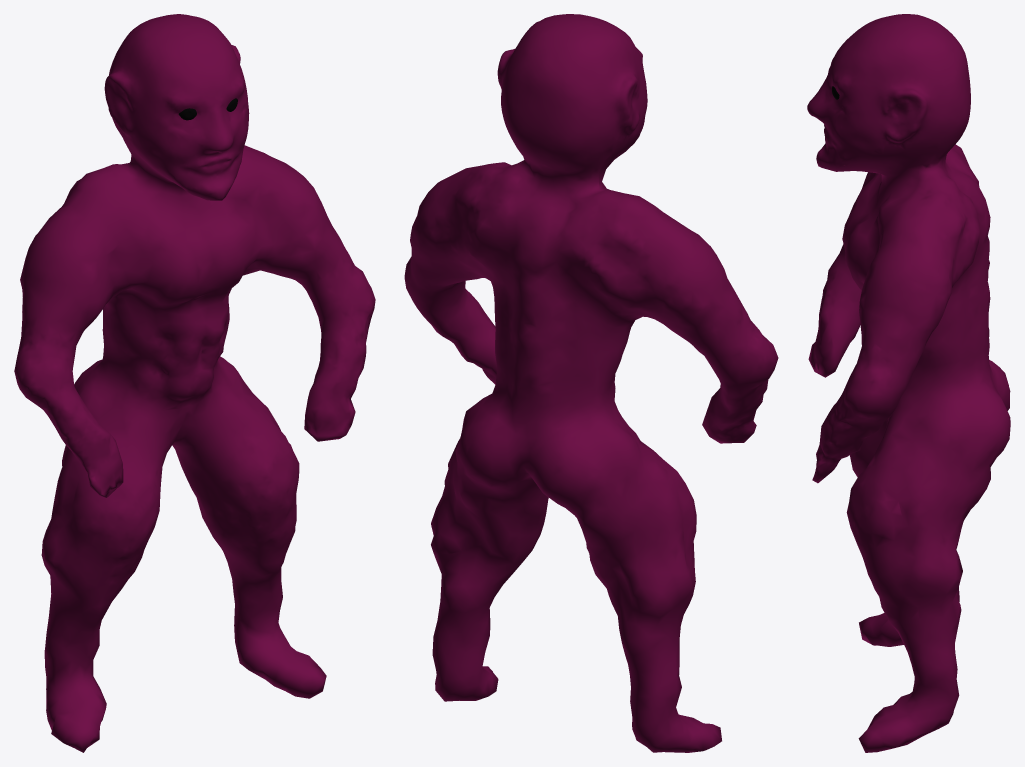
Rendered from head.fbx.
The picture shows the model from 3 angles, left to right: view 1: azimuth 30°, elevation 25°; view 2: azimuth 150°, elevation 25°; view 3: azimuth 270°, elevation 25°; orthographic projection. The views are drawn at different scales.
Visible parts, largest first — view 1: Sphere; view 2: Sphere; view 3: Sphere.
Part boxes in pixels (box(x1,y1,x2,y2)): Sphere: box(14, 14, 375, 752); Sphere: box(404, 14, 778, 752); Sphere: box(807, 14, 1010, 752).
Size of the model in its own units: 136 by 253 by 69.
